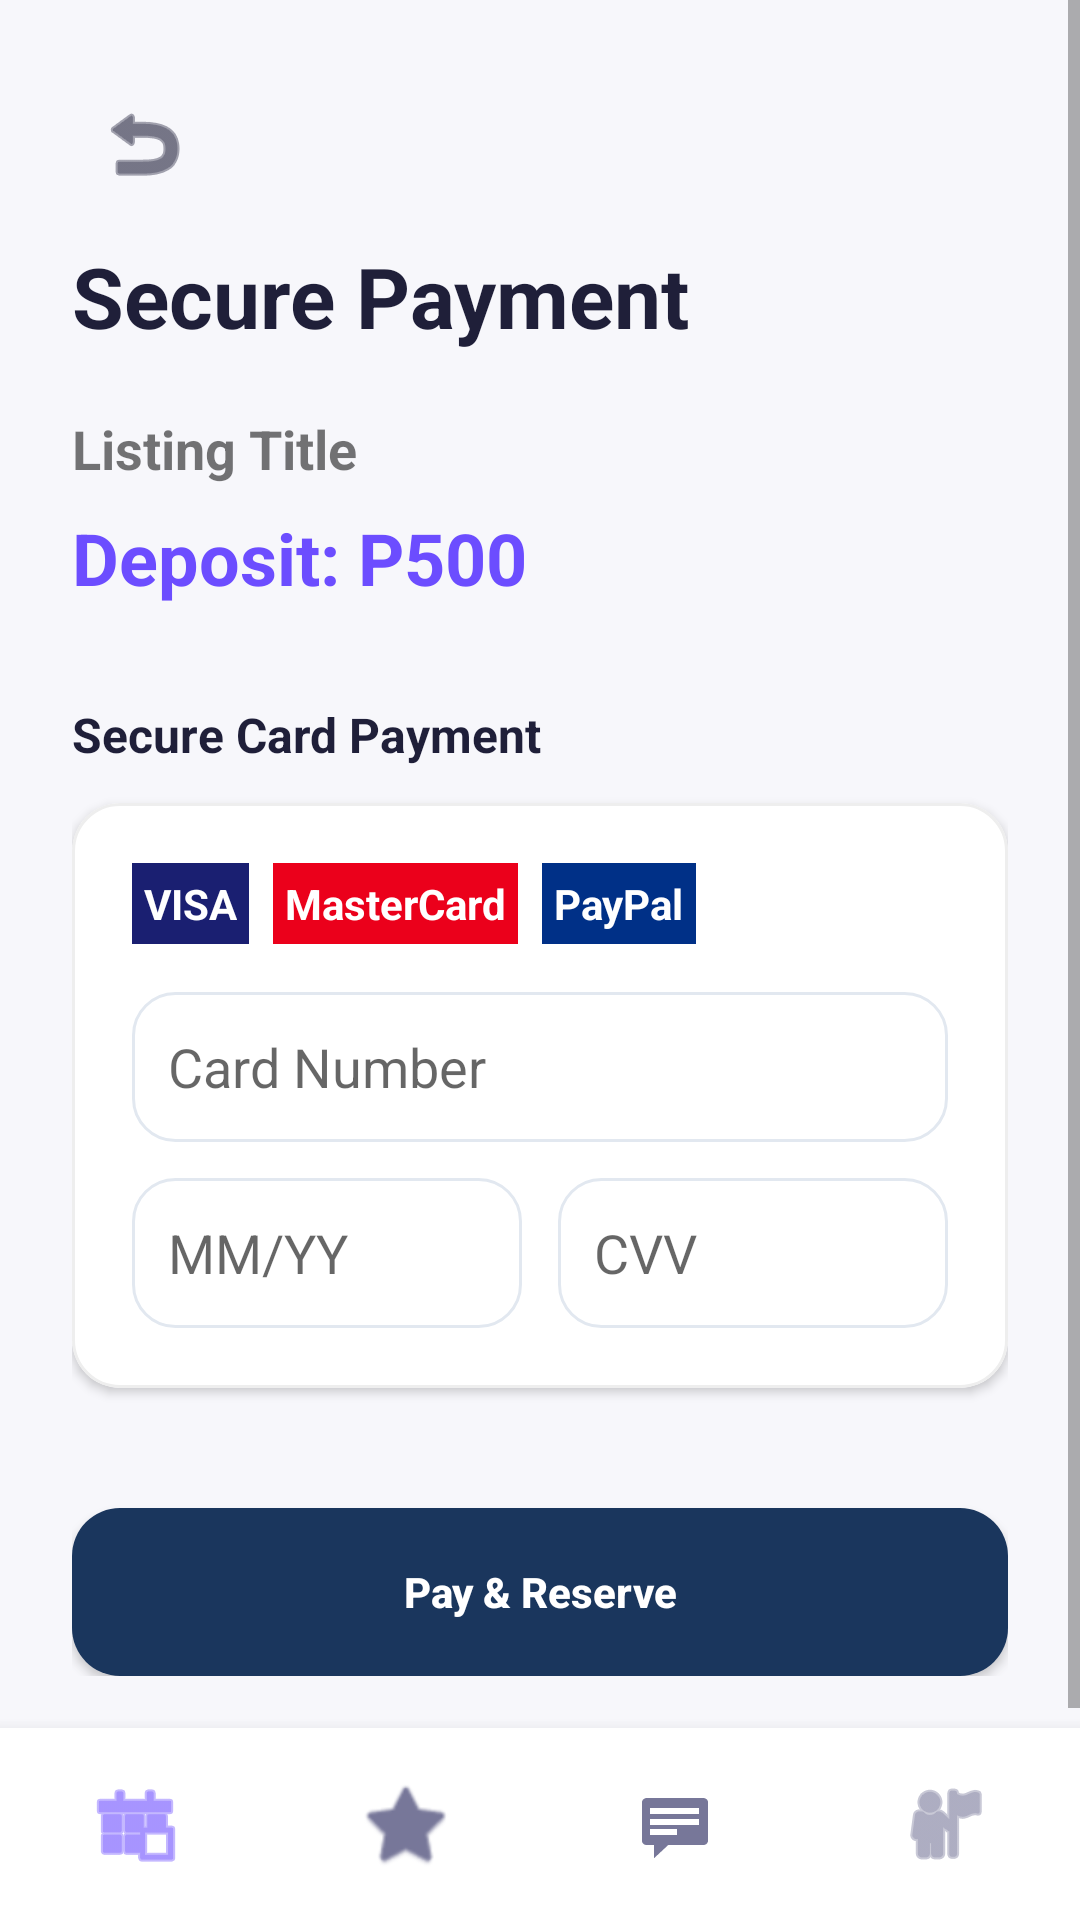

Icon click points for this 1080px x 1920px phone screenshot, format point (x, y):
Back: point (145, 144)
Chat: point (675, 1828)
Profile: point (946, 1824)
Saved: point (406, 1824)
